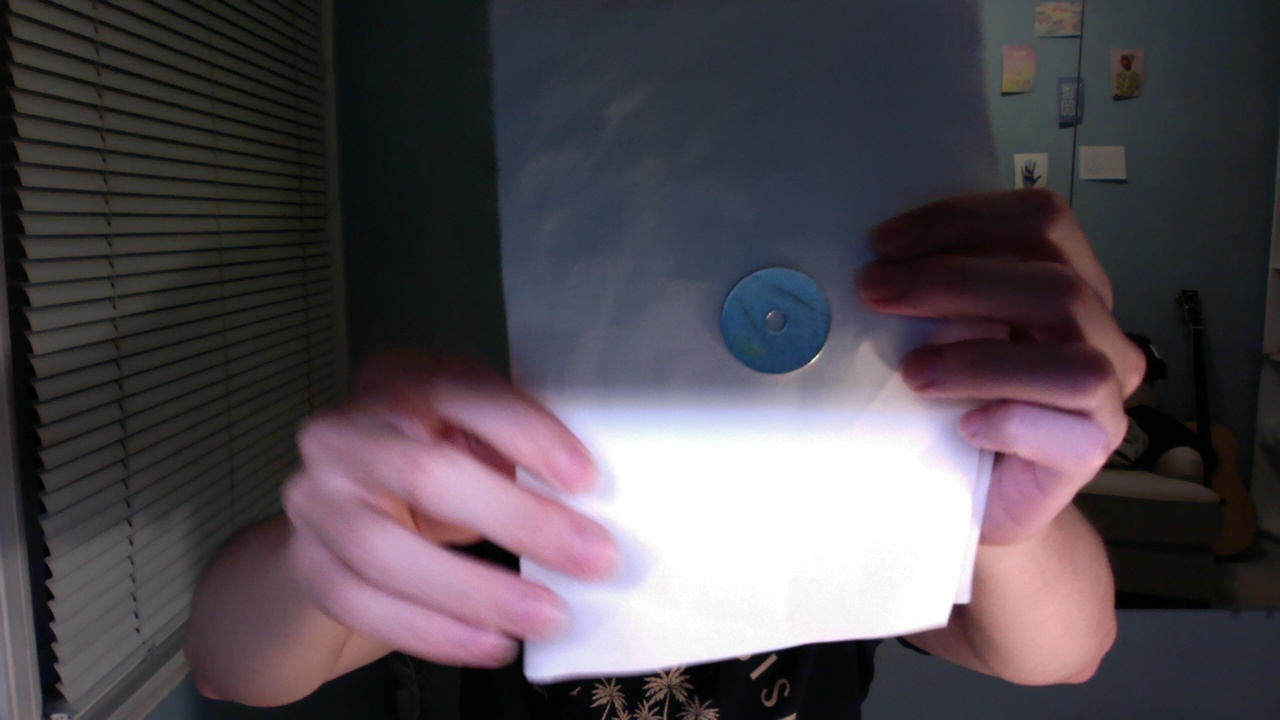DetectiveWashers: (730, 274, 832, 372)
